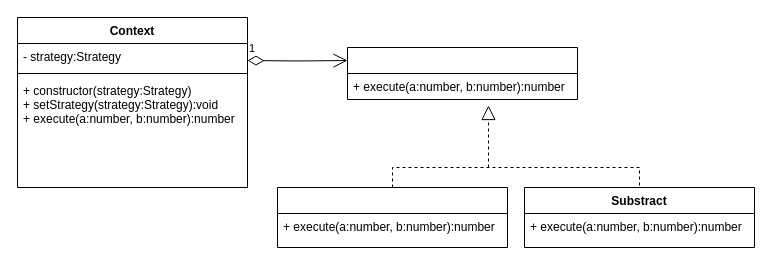
Image size: 772x268. Some labels were removed from this diagram. The box of each missing label's shape, as (x1, y1, x2, y2) in pixels:
Add: (276, 186, 508, 248)
Strategy: (346, 46, 578, 100)
